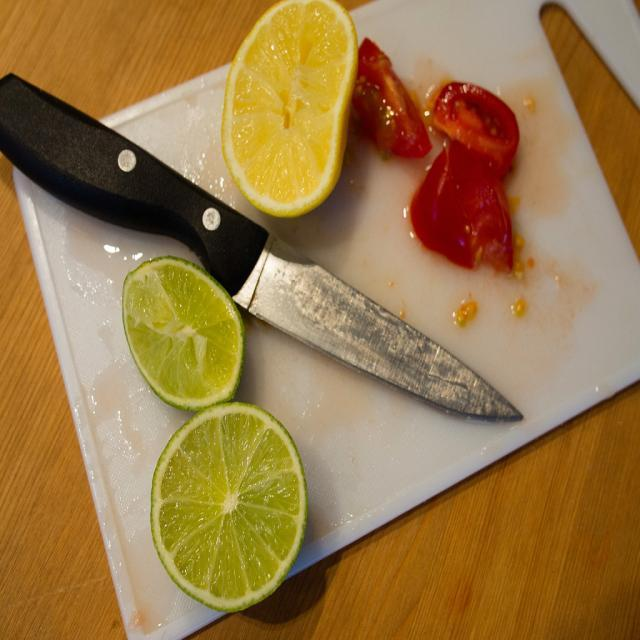Knife: (0, 74, 522, 419)
